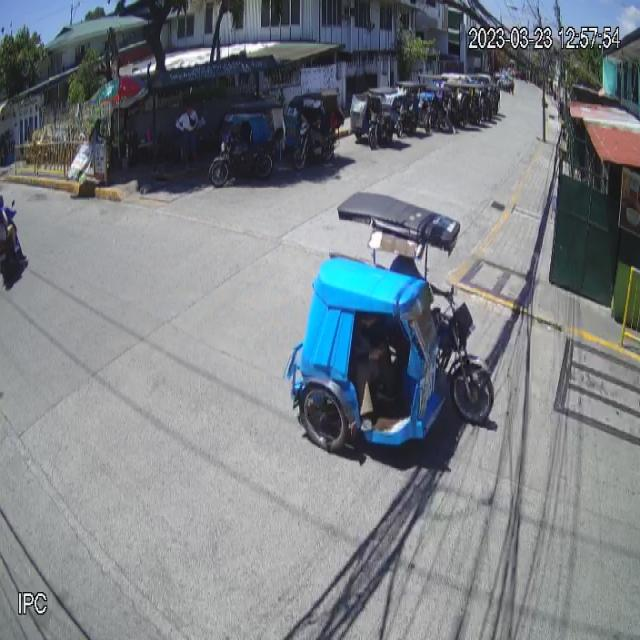Tricycle: (289, 192, 494, 453)
